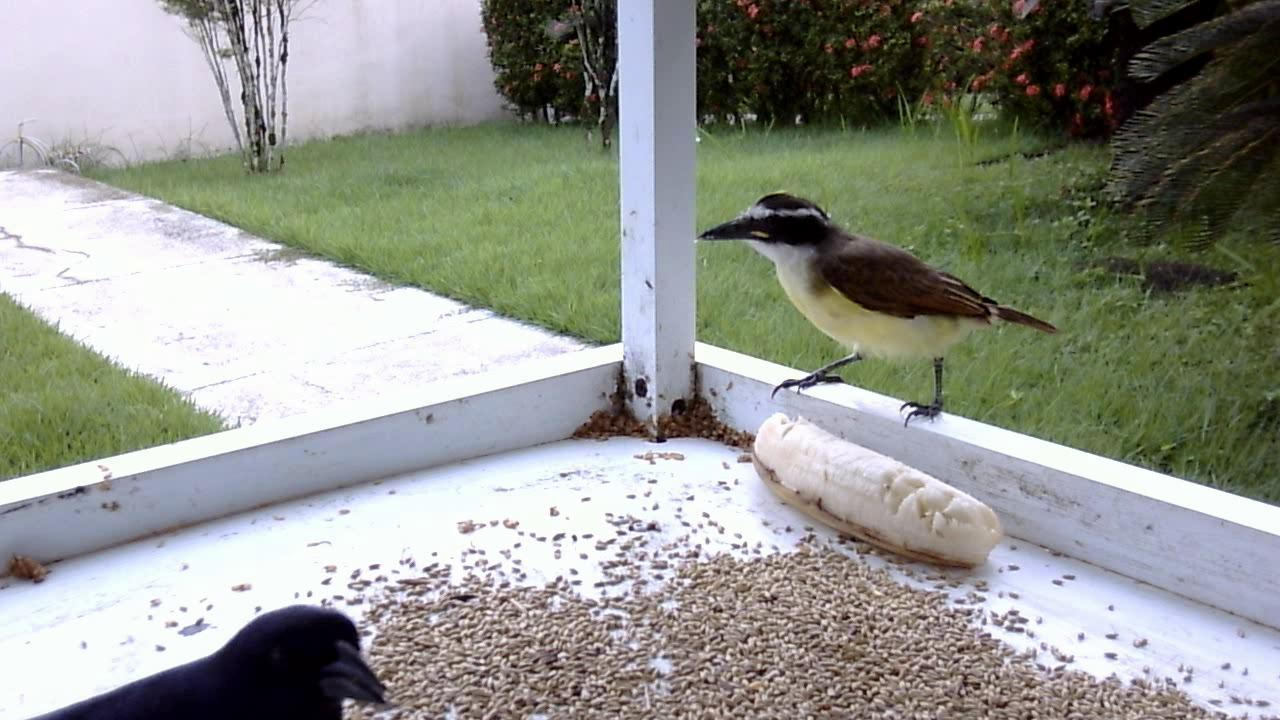bem_te_vi: (685, 187, 1065, 438)
chupim: (15, 597, 410, 720)
